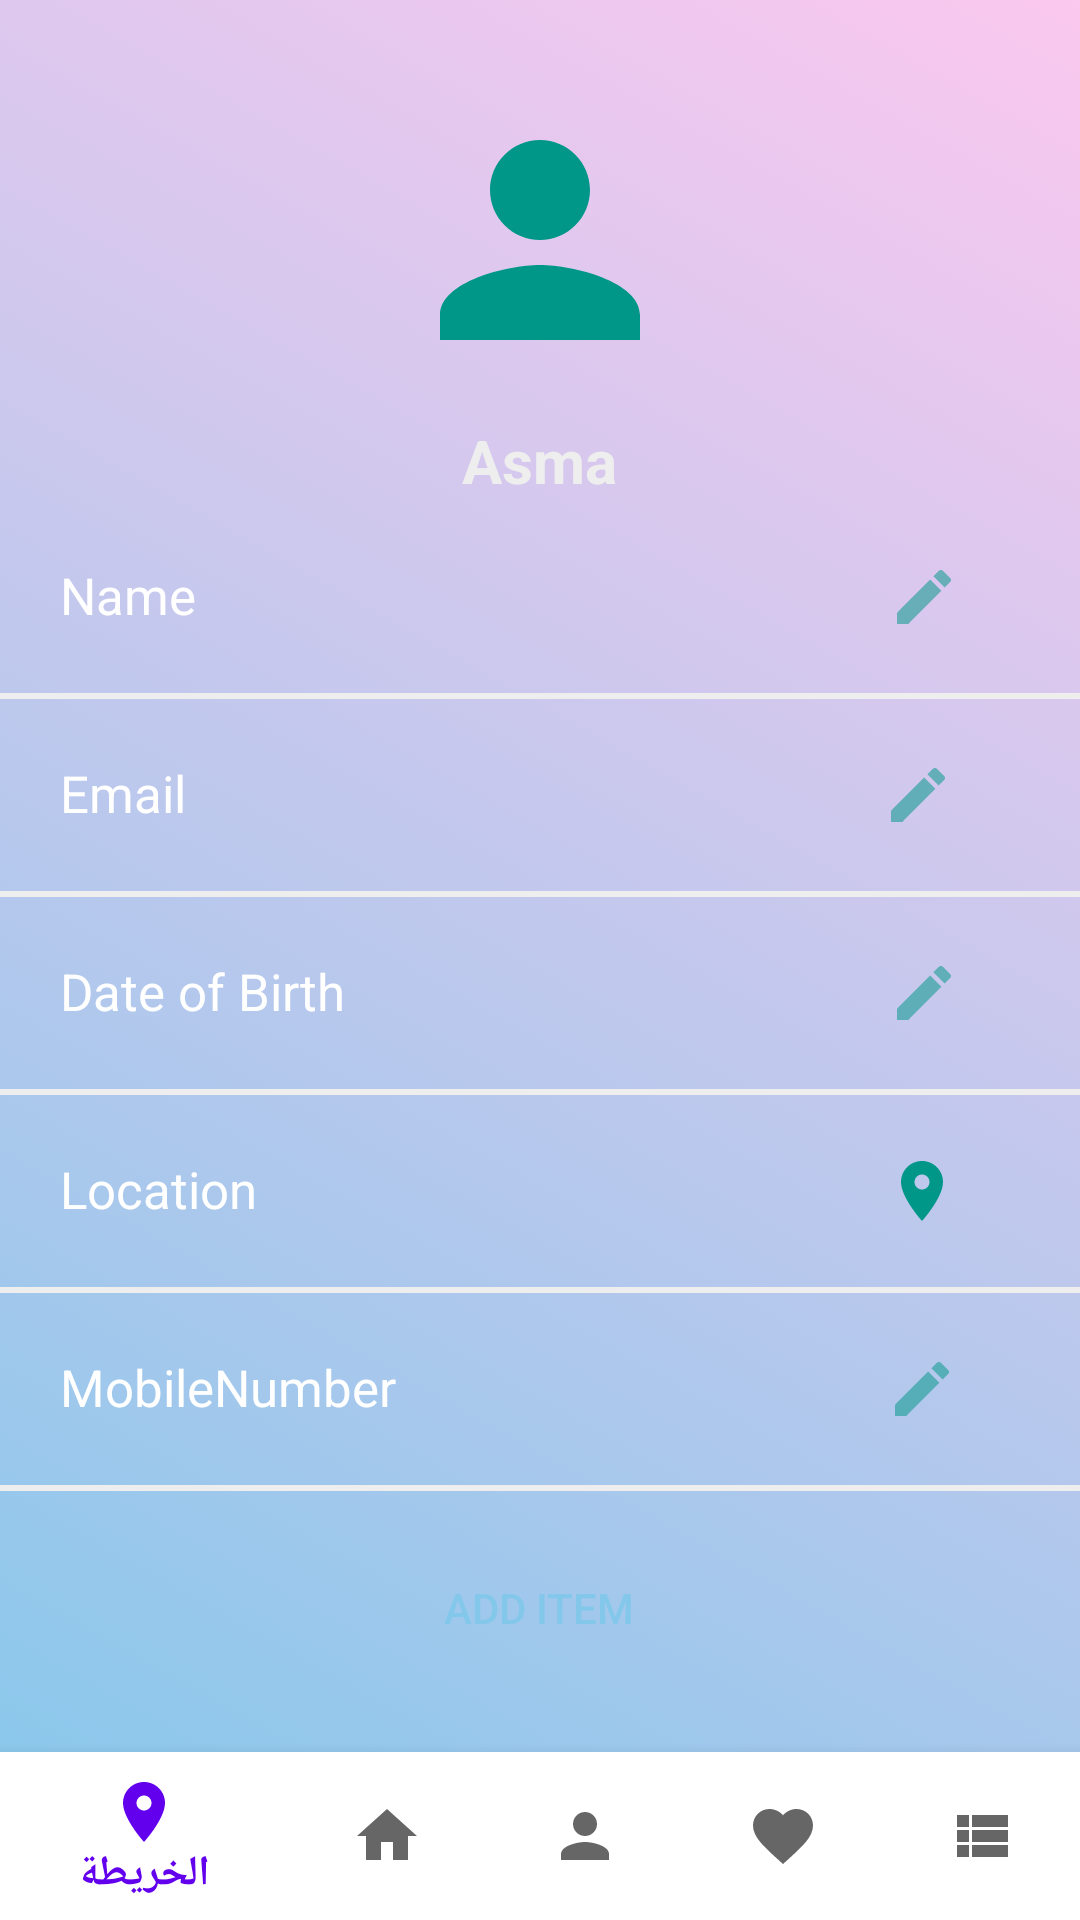

Icons on this 1080x1920 Android screen, each with the point to tap as point (x, y):
edit: point (924, 597), point (918, 795), point (924, 993), point (922, 1389)
person: point (540, 240)
